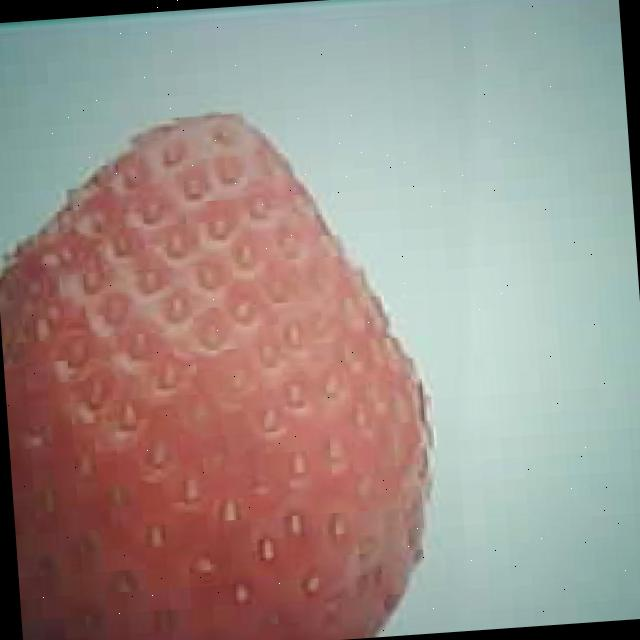strawberry: (0, 99, 446, 640)
